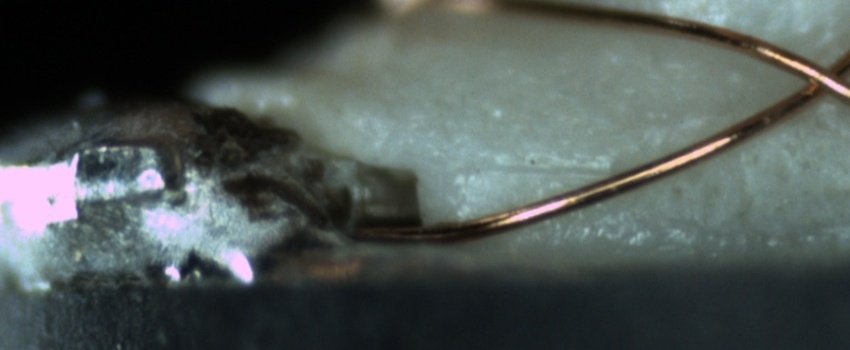CL: (781, 44, 849, 109)
DL: (464, 139, 619, 203)
